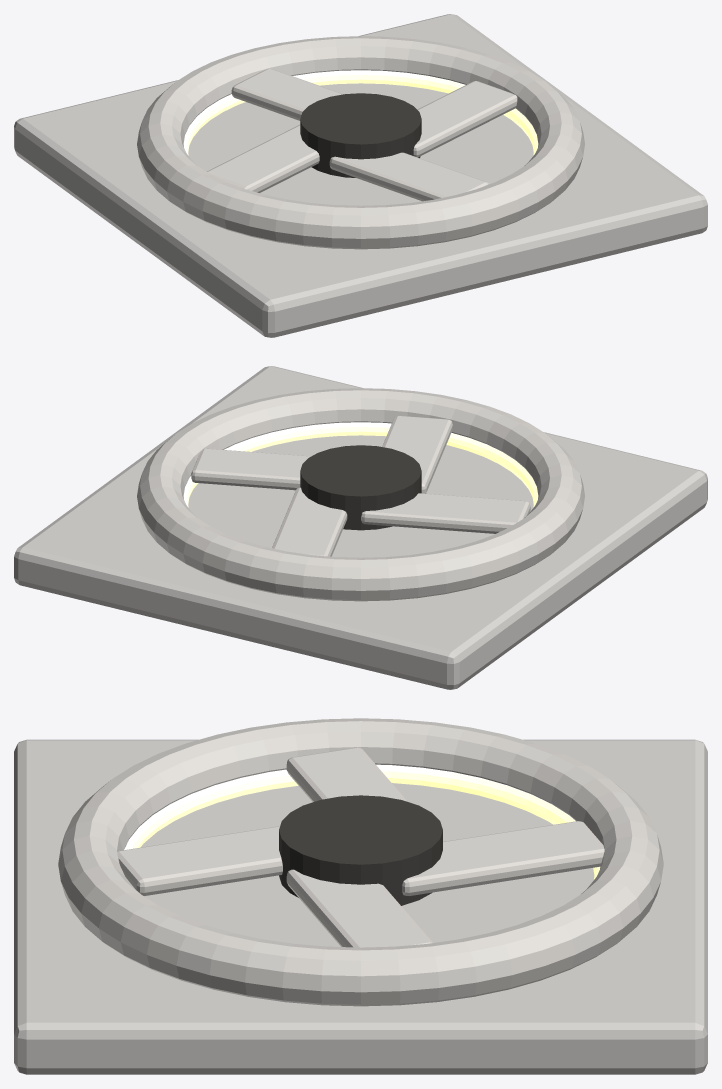
Rendered from topo_comp_fan.glb.
3 renders of one model, top to bottom at view 1: azimuth 30°, elevation 25°; view 2: azimuth 150°, elevation 25°; view 3: azimuth 270°, elevation 25°, orthographic. The views are drawn at different scales.
Parts seen in each view (by area): view 1: TOPO_COMP_FAN; view 2: TOPO_COMP_FAN; view 3: TOPO_COMP_FAN.
Boxes of the visible parts, x1,y1,x2,y2 form: TOPO_COMP_FAN: [14, 14, 707, 337]; TOPO_COMP_FAN: [14, 366, 707, 689]; TOPO_COMP_FAN: [14, 718, 707, 1074].
Size of the model in its own units: 0.22 by 0.036 by 0.22.
